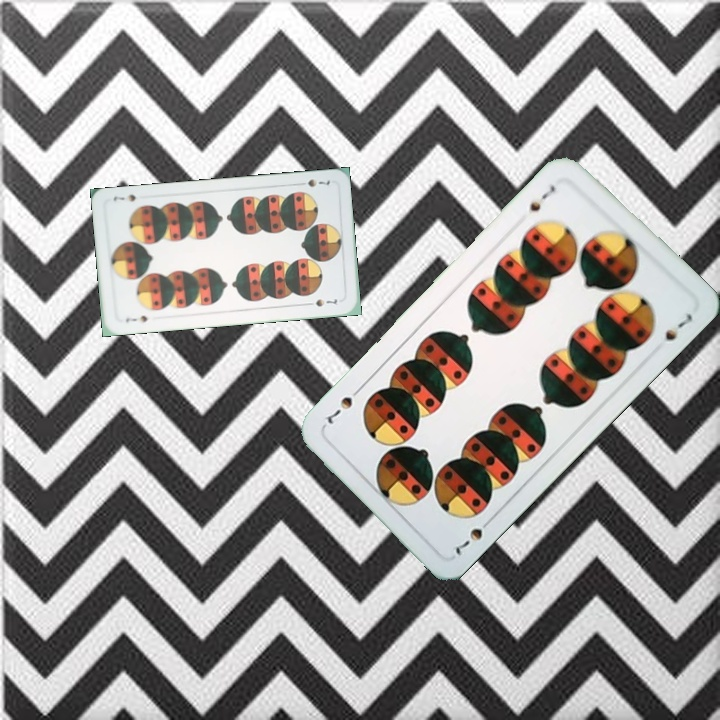S7: (451, 513, 496, 558), (525, 180, 558, 215), (293, 175, 333, 190), (122, 311, 152, 325)
